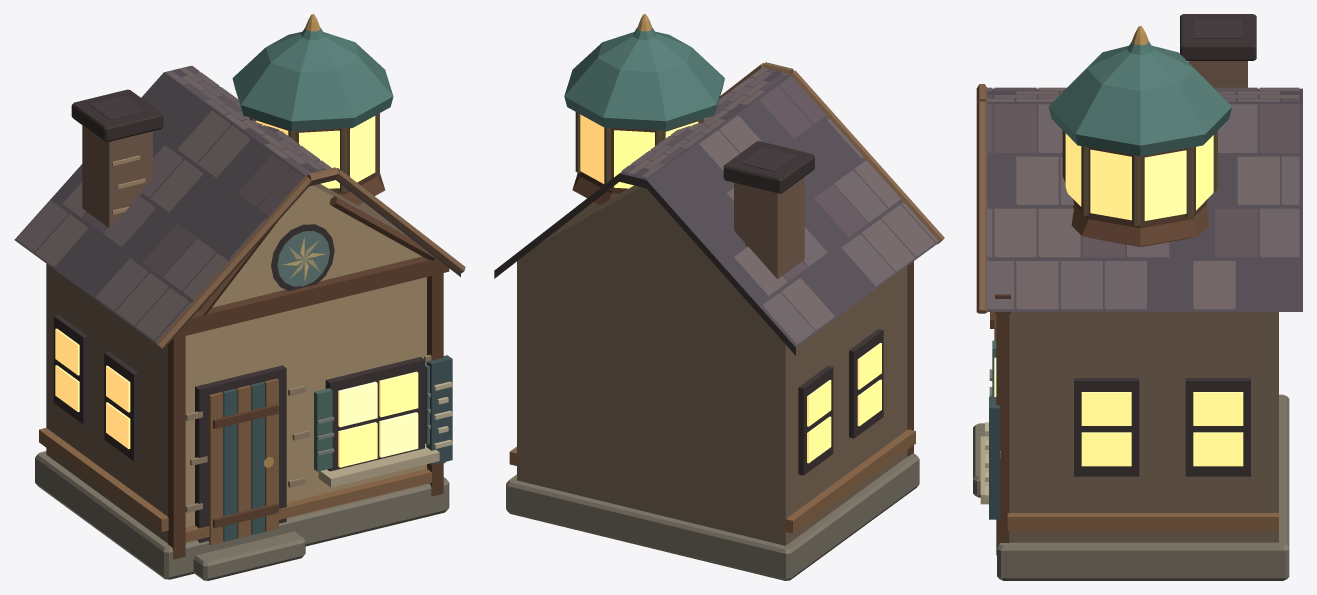
The model's file is pilot_house.glb.
The picture shows the model from 3 angles, left to right: view 1: azimuth 30°, elevation 25°; view 2: azimuth 150°, elevation 25°; view 3: azimuth 270°, elevation 25°; orthographic projection. The views are drawn at different scales.
Parts seen in each view (by area): view 1: Masonry and joinery; view 2: Masonry and joinery; view 3: Masonry and joinery.
Boxes of the visible parts, bbox=[...] form: Masonry and joinery: bbox=[14, 14, 465, 580]; Masonry and joinery: bbox=[494, 14, 944, 580]; Masonry and joinery: bbox=[973, 14, 1302, 580].
Size of the model in its own units: 2.03 by 2.96 by 1.71.
